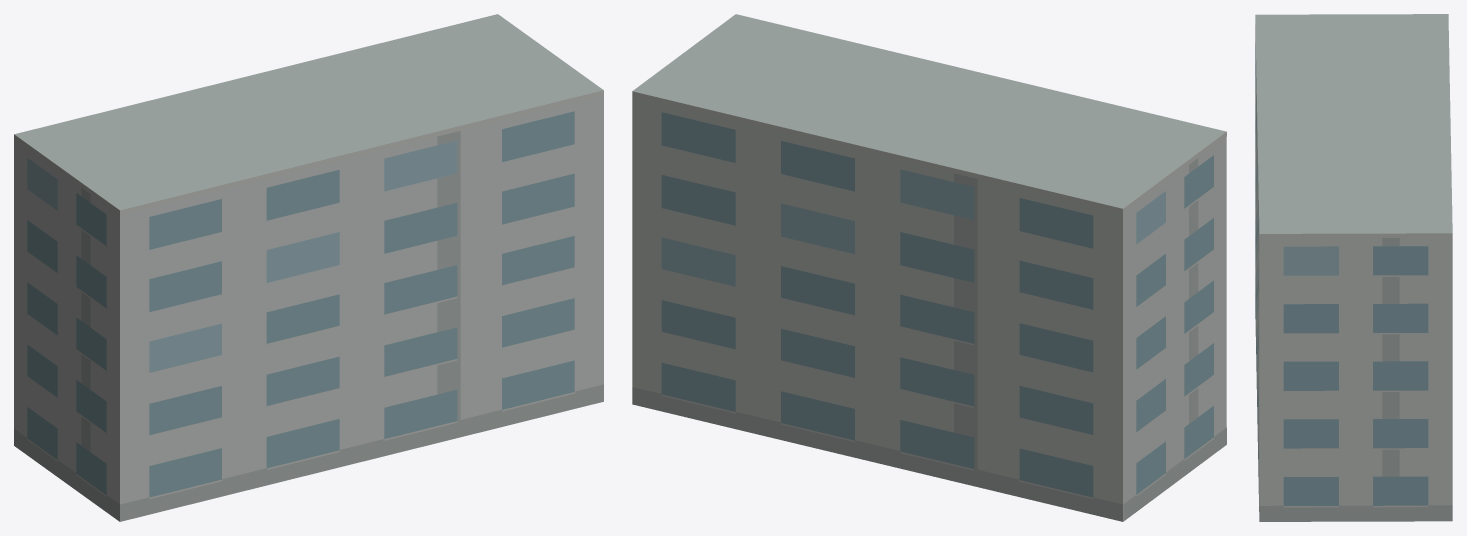
Rendered from residential-670cae08-0006-4af7-90ea-2986c40d58ba.glb.
The picture shows the model from 3 angles, left to right: view 1: azimuth 30°, elevation 25°; view 2: azimuth 150°, elevation 25°; view 3: azimuth 270°, elevation 25°; orthographic projection. The views are drawn at different scales.
Visible parts, largest first — view 1: residential-670cae08-0006-4af7-90ea-2986c40d58ba.tmp; view 2: residential-670cae08-0006-4af7-90ea-2986c40d58ba.tmp; view 3: residential-670cae08-0006-4af7-90ea-2986c40d58ba.tmp.
Part boxes in pixels (bbox=[...]): residential-670cae08-0006-4af7-90ea-2986c40d58ba.tmp: bbox=[14, 14, 603, 521]; residential-670cae08-0006-4af7-90ea-2986c40d58ba.tmp: bbox=[632, 14, 1226, 521]; residential-670cae08-0006-4af7-90ea-2986c40d58ba.tmp: bbox=[1255, 14, 1452, 521].
Size of the model in its own units: 24.99 by 15.25 by 9.49.
